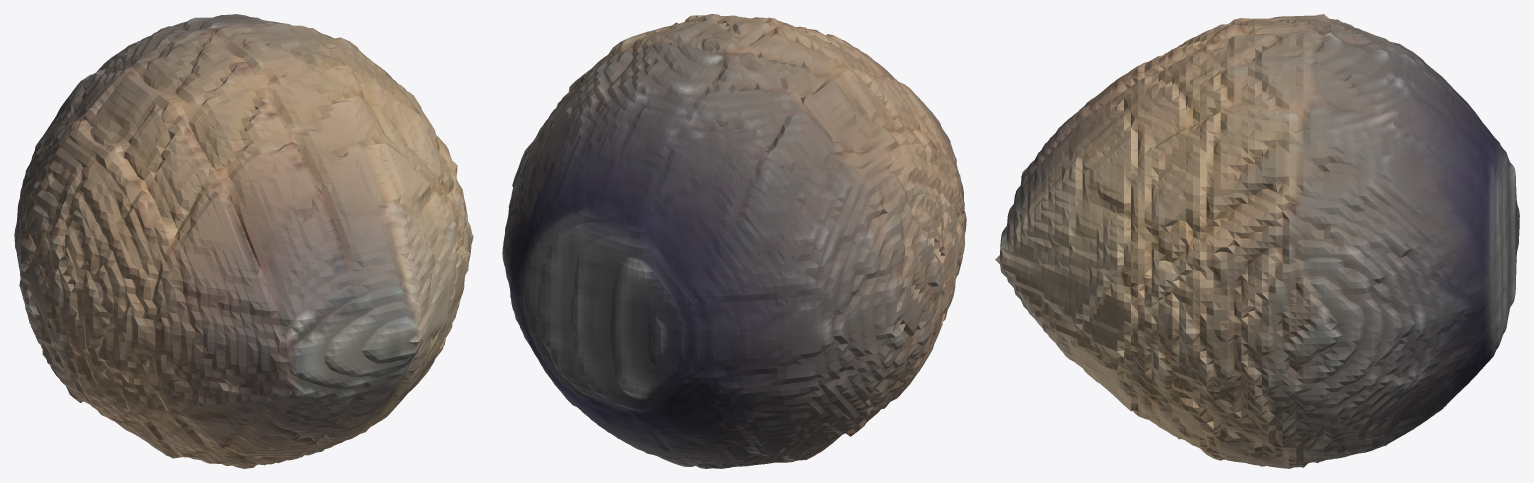
3 renders of one model, left to right at view 1: azimuth 30°, elevation 25°; view 2: azimuth 150°, elevation 25°; view 3: azimuth 270°, elevation 25°, orthographic.
Parts seen in each view (by area): view 1: world; view 2: world; view 3: world.
Boxes of the visible parts, box(x1,y1,x2,y2) form: world: box(14, 14, 473, 468); world: box(502, 14, 966, 468); world: box(995, 14, 1519, 468).
Bounding box in the file's own units: 0.9095 × 0.9129 × 1.04.
